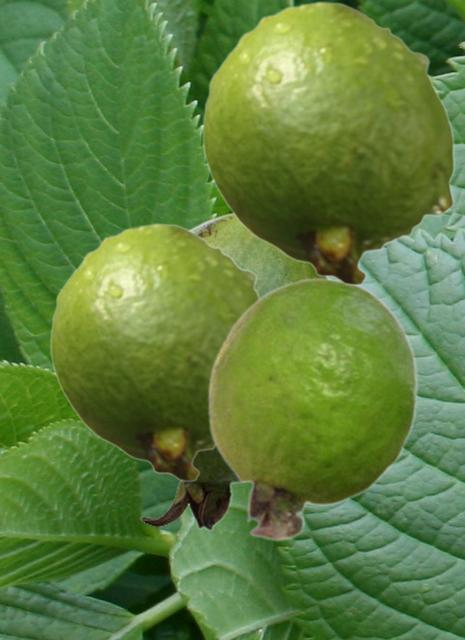guava: (201, 0, 454, 285), (137, 211, 315, 530), (207, 276, 418, 541), (49, 222, 259, 481)
